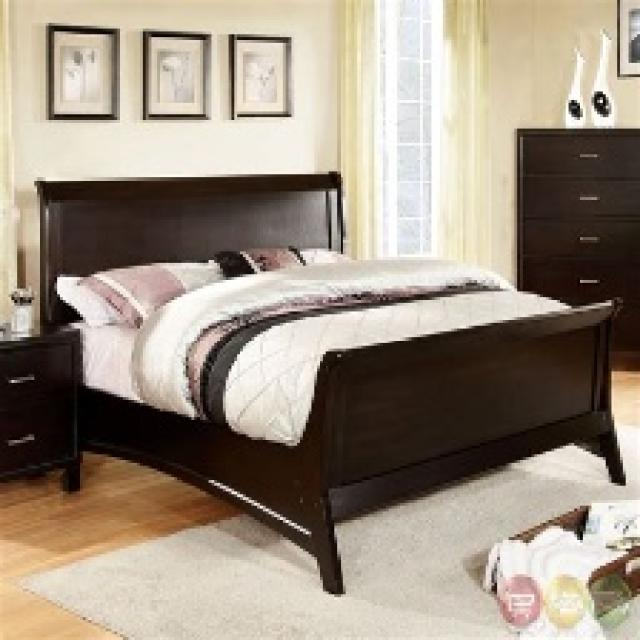Bed: (31, 169, 626, 594)
